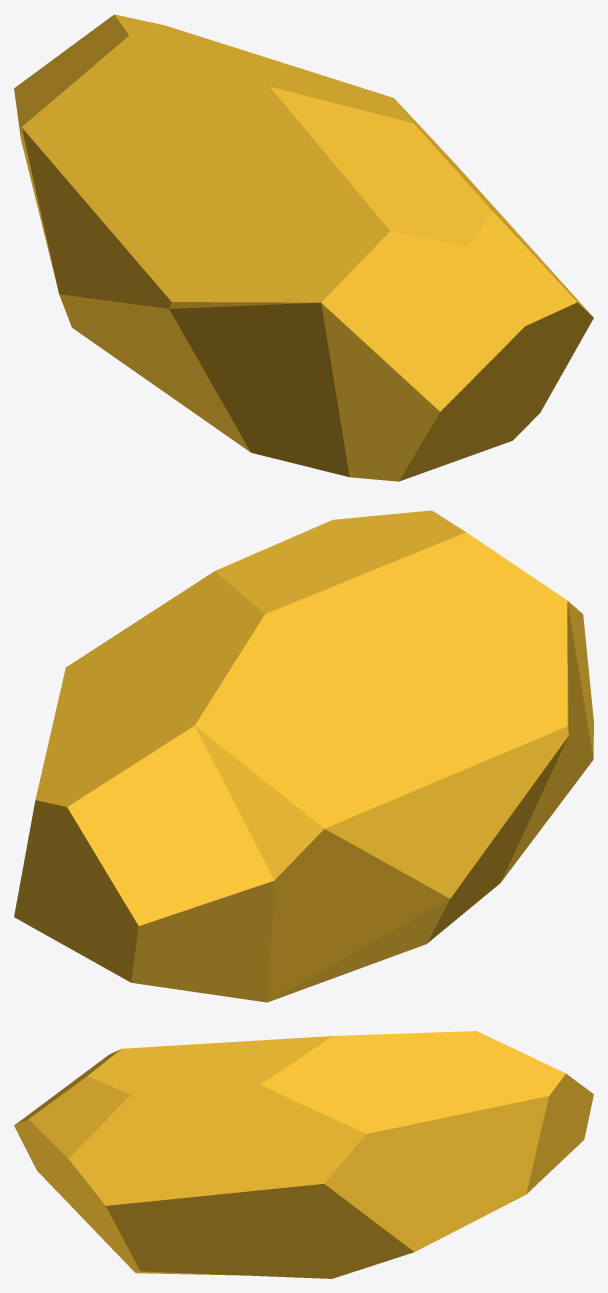
Rendered from Gold_1.fbx.
The picture shows the model from 3 angles, top to bottom: view 1: azimuth 30°, elevation 25°; view 2: azimuth 150°, elevation 25°; view 3: azimuth 270°, elevation 25°; orthographic projection. The views are drawn at different scales.
Visible parts, largest first — view 1: Cube.001_Cube.002; view 2: Cube.001_Cube.002; view 3: Cube.001_Cube.002.
Boxes of the visible parts, <box> form: Cube.001_Cube.002: <box>14,14,593,481</box>; Cube.001_Cube.002: <box>14,510,593,1002</box>; Cube.001_Cube.002: <box>14,1031,593,1278</box>.
Size of the model in its own units: 0.9585 by 0.7888 by 1.84.
Materials: 1 (1 with a texture image).
